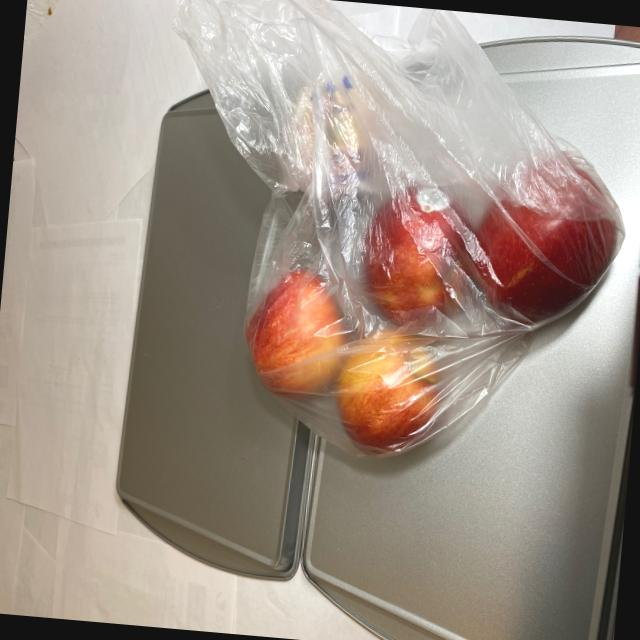apple: (222, 68, 623, 482)
